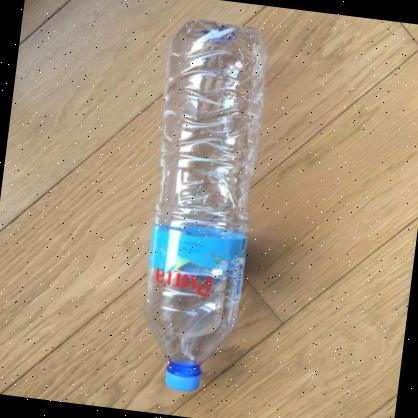bottle: (125, 15, 277, 398)
cap: (162, 364, 202, 394)
label: (142, 220, 250, 304)
